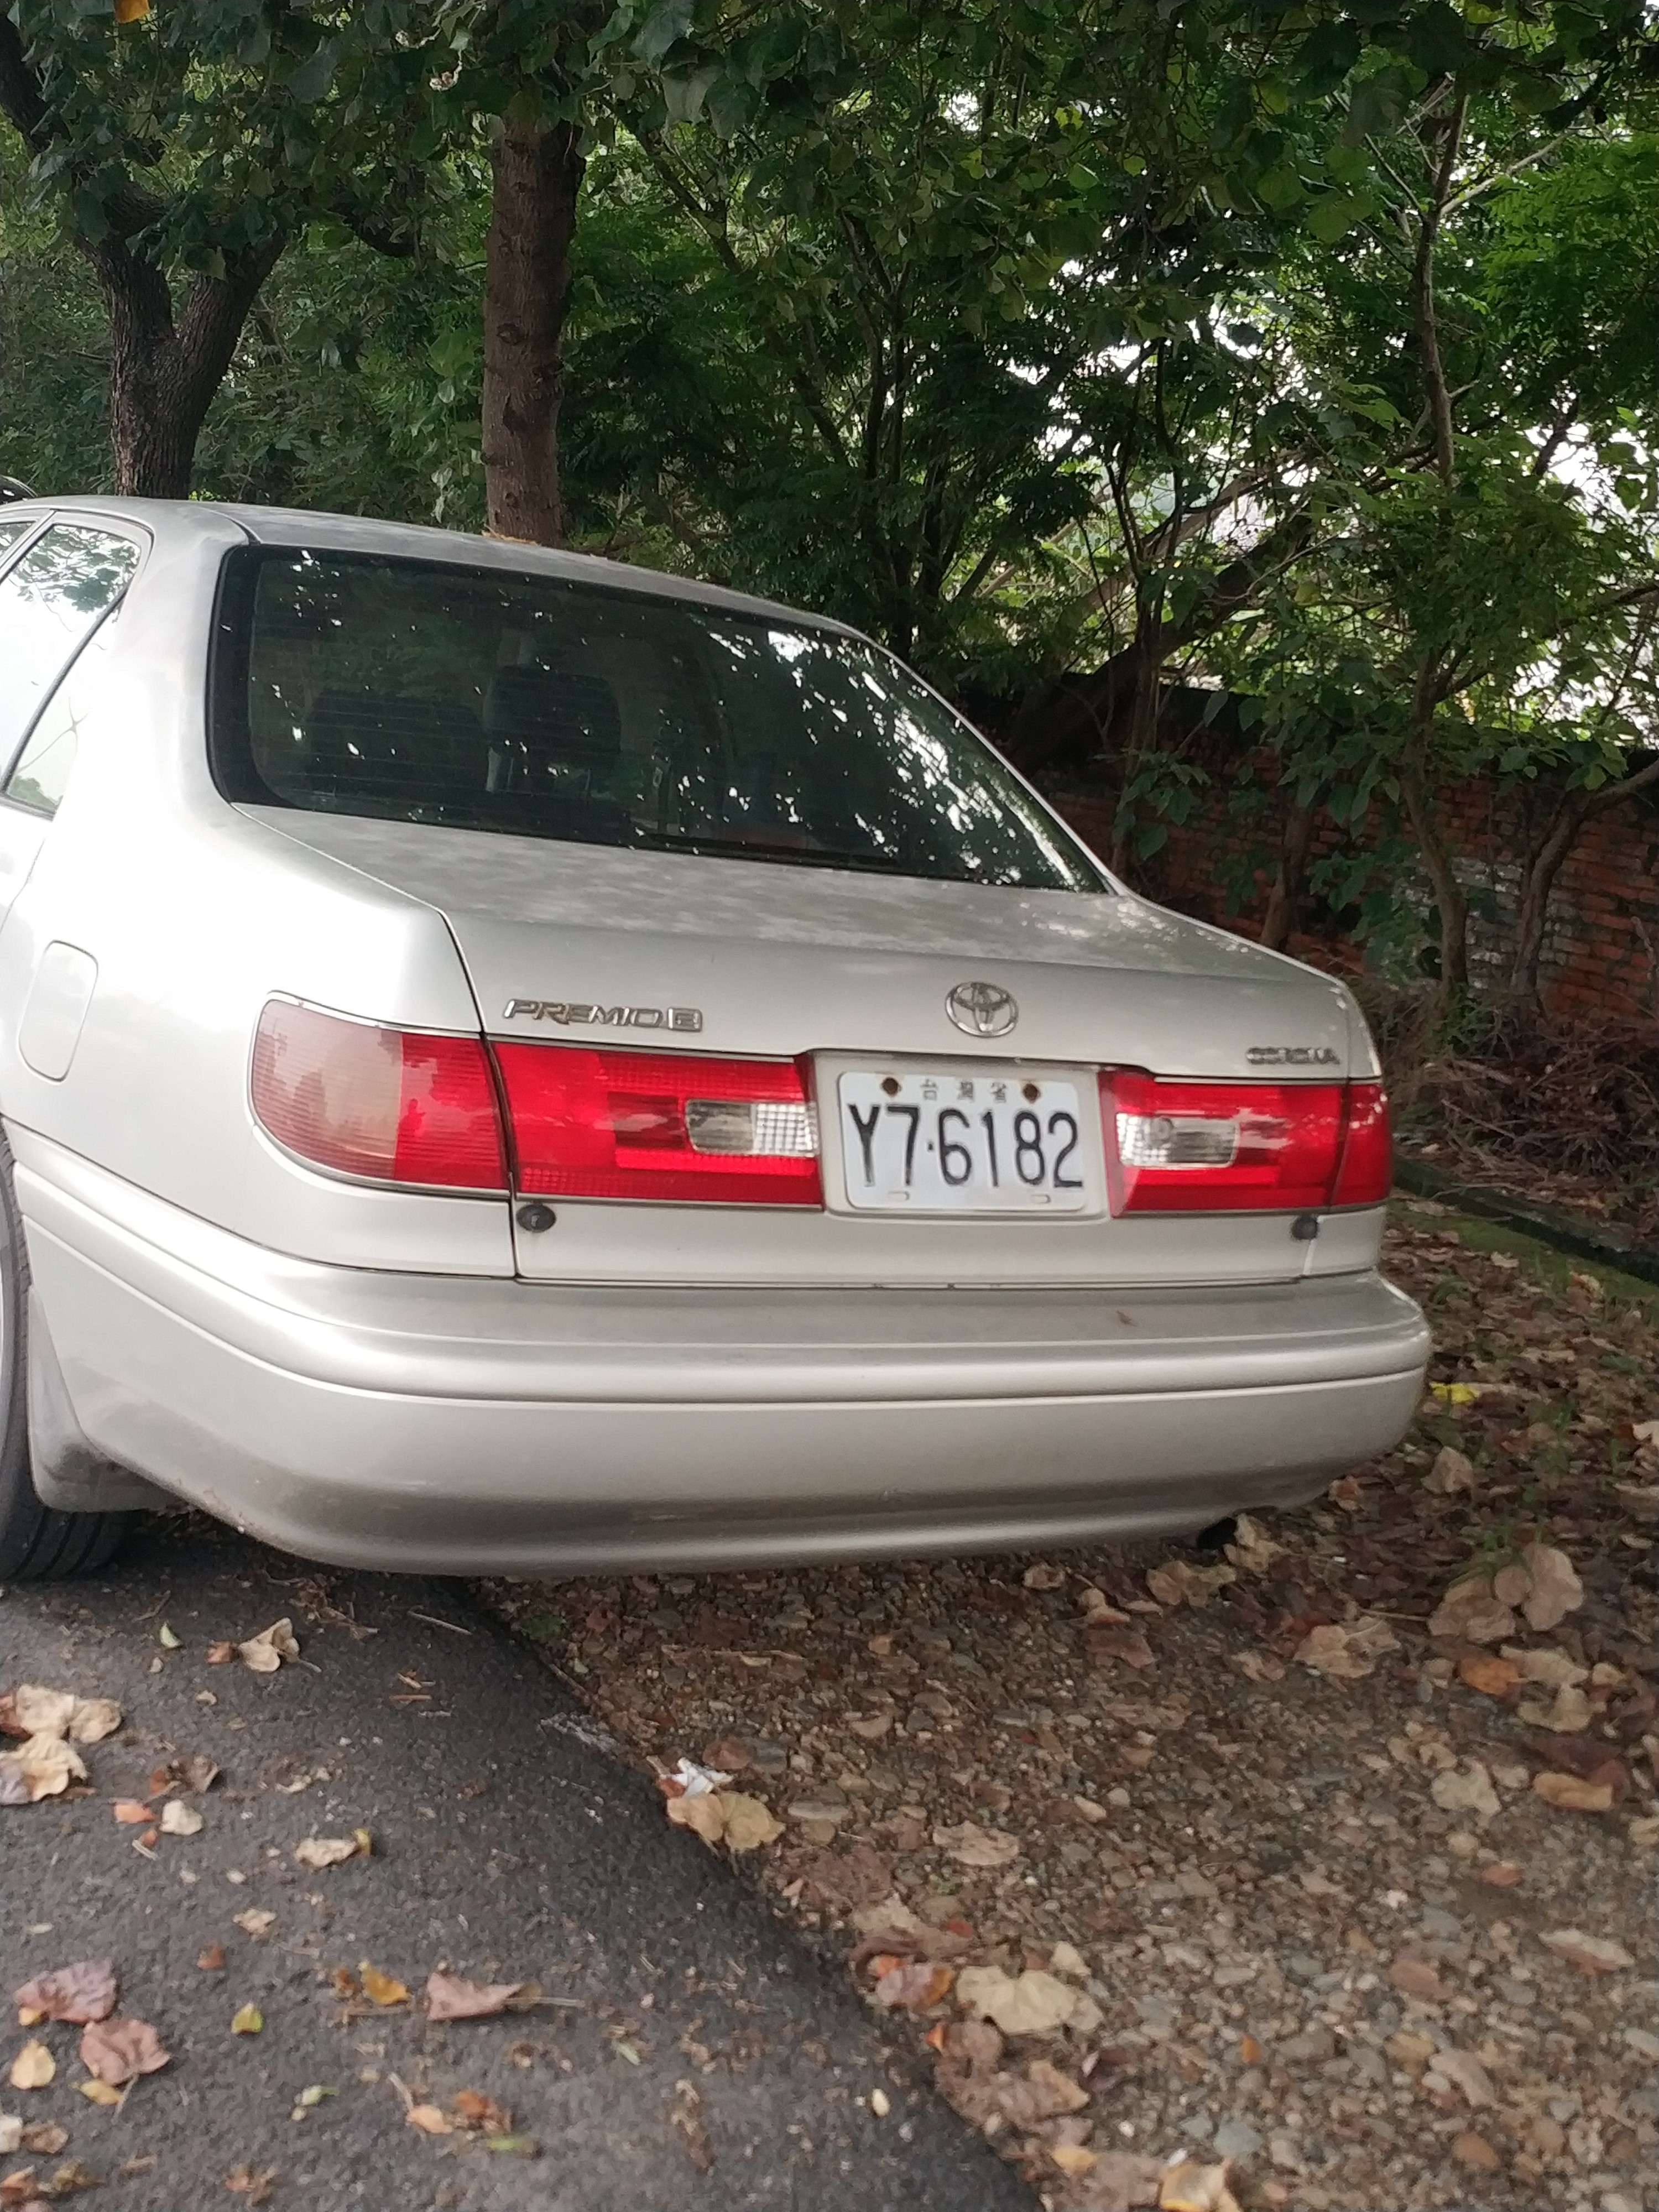car: (0, 488, 1431, 1580)
car_card: (816, 1066, 1108, 1231)
